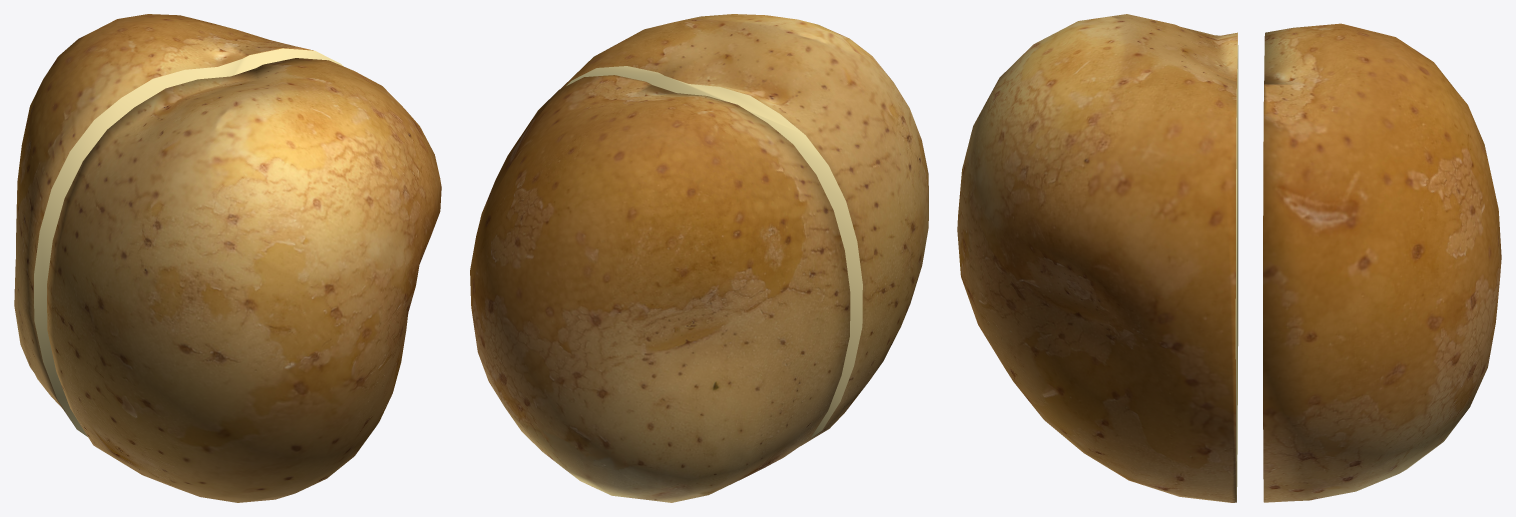
File: potatoCut01.fbx
The picture shows the model from 3 angles, left to right: view 1: azimuth 30°, elevation 25°; view 2: azimuth 150°, elevation 25°; view 3: azimuth 270°, elevation 25°; orthographic projection. The views are drawn at different scales.
Visible parts, largest first — view 1: potato.001, potato; view 2: potato, potato.001; view 3: potato.001, potato.
Part boxes in pixels (box(x1,y1,x2,y2)): potato.001: box(47, 58, 441, 502); potato: box(14, 14, 343, 436); potato: box(470, 75, 850, 502); potato.001: box(561, 14, 928, 445); potato.001: box(957, 14, 1238, 502); potato: box(1263, 23, 1501, 502).
Size of the model in its own units: 185 by 211 by 233.
